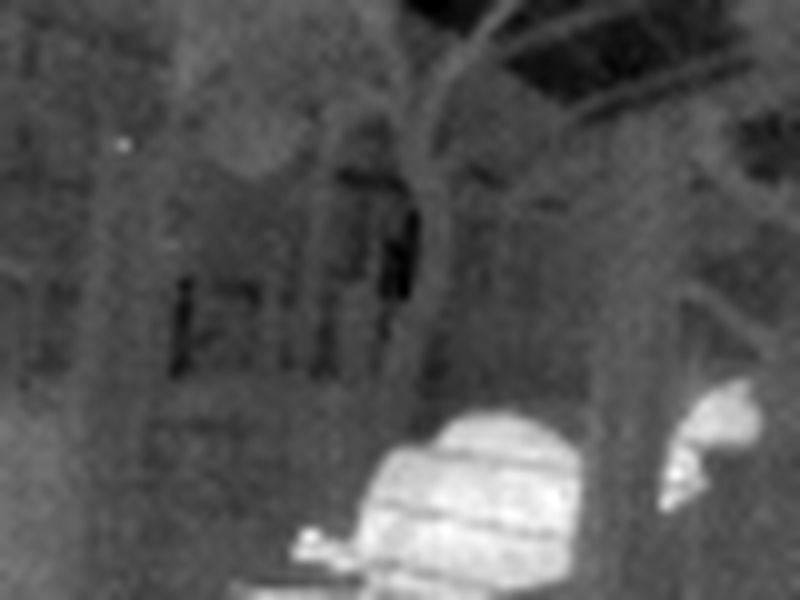elephant: (362, 373, 800, 600)
